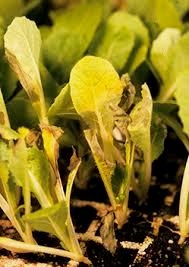Bok-Choy-Diseased: (68, 56, 157, 216), (0, 16, 72, 191)
